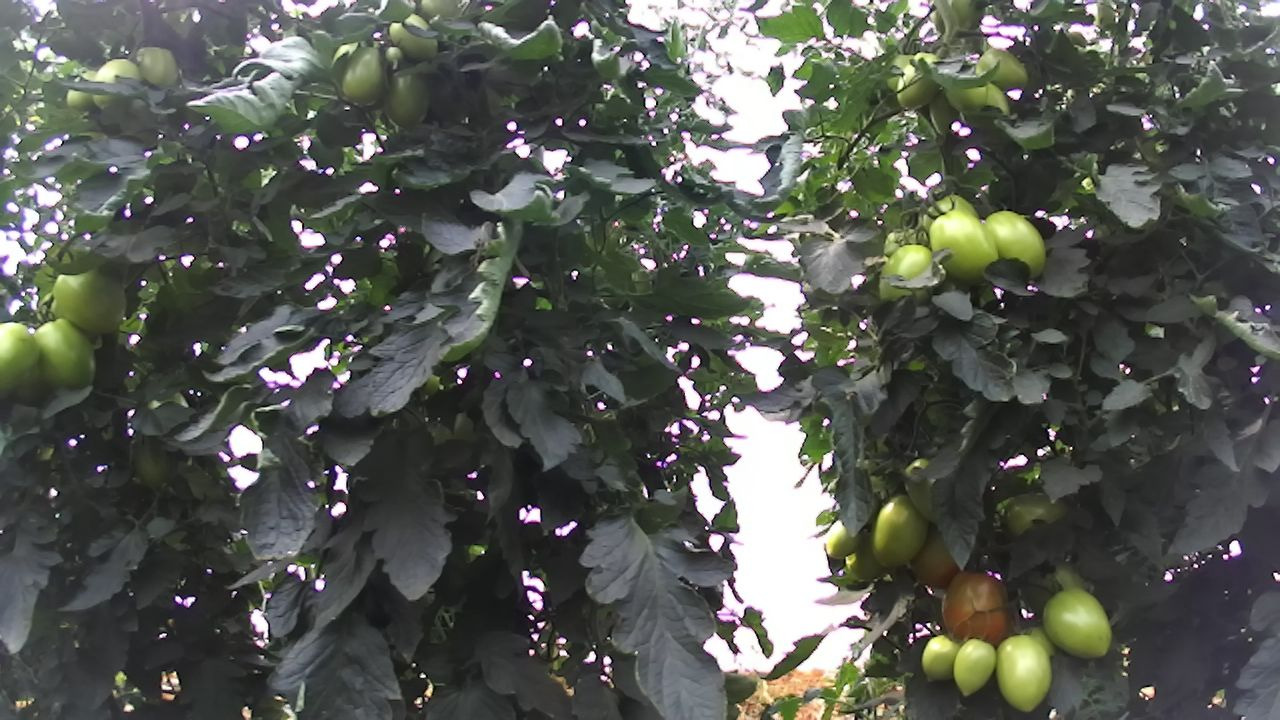tomato: (924, 207, 1007, 295), (934, 567, 1015, 655), (46, 260, 131, 336), (975, 206, 1049, 291), (1037, 582, 1115, 662), (865, 488, 934, 573), (991, 631, 1057, 717), (31, 314, 101, 395), (1002, 487, 1075, 549), (874, 241, 937, 311), (0, 319, 42, 408), (386, 64, 433, 137), (340, 42, 390, 108), (971, 41, 1032, 94), (950, 635, 997, 702), (387, 7, 440, 62), (918, 632, 965, 688), (134, 40, 178, 94)
